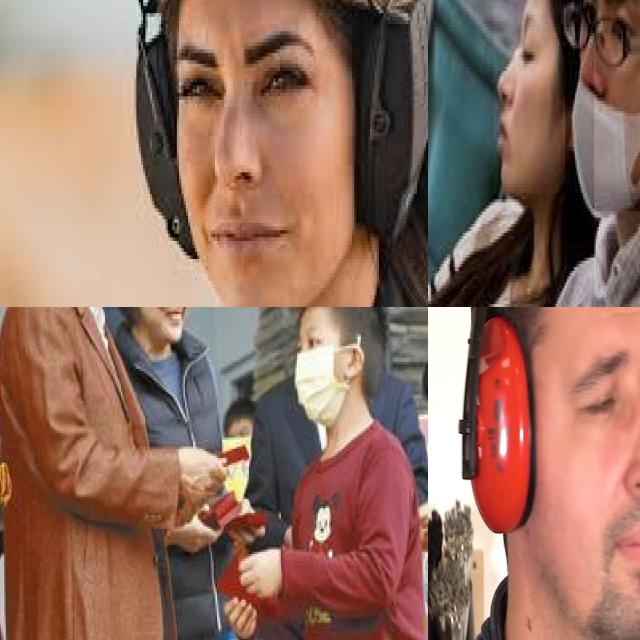Ear-protection: (458, 307, 640, 640), (331, 0, 428, 255)
No_Ear-Protection: (346, 340, 364, 384)
No_Glasses: (179, 19, 344, 126)
face_mask: (565, 0, 640, 211), (292, 321, 348, 426)
face_nomask: (493, 0, 560, 193), (140, 307, 193, 341)
glasses: (558, 0, 640, 74)
hand_noglove: (172, 438, 228, 502), (238, 550, 284, 604), (182, 504, 226, 556), (220, 591, 260, 640)
head_nohelmet: (293, 307, 383, 325)
person: (262, 307, 428, 640), (0, 307, 154, 640), (428, 0, 595, 307), (509, 0, 640, 307), (125, 307, 239, 640)
